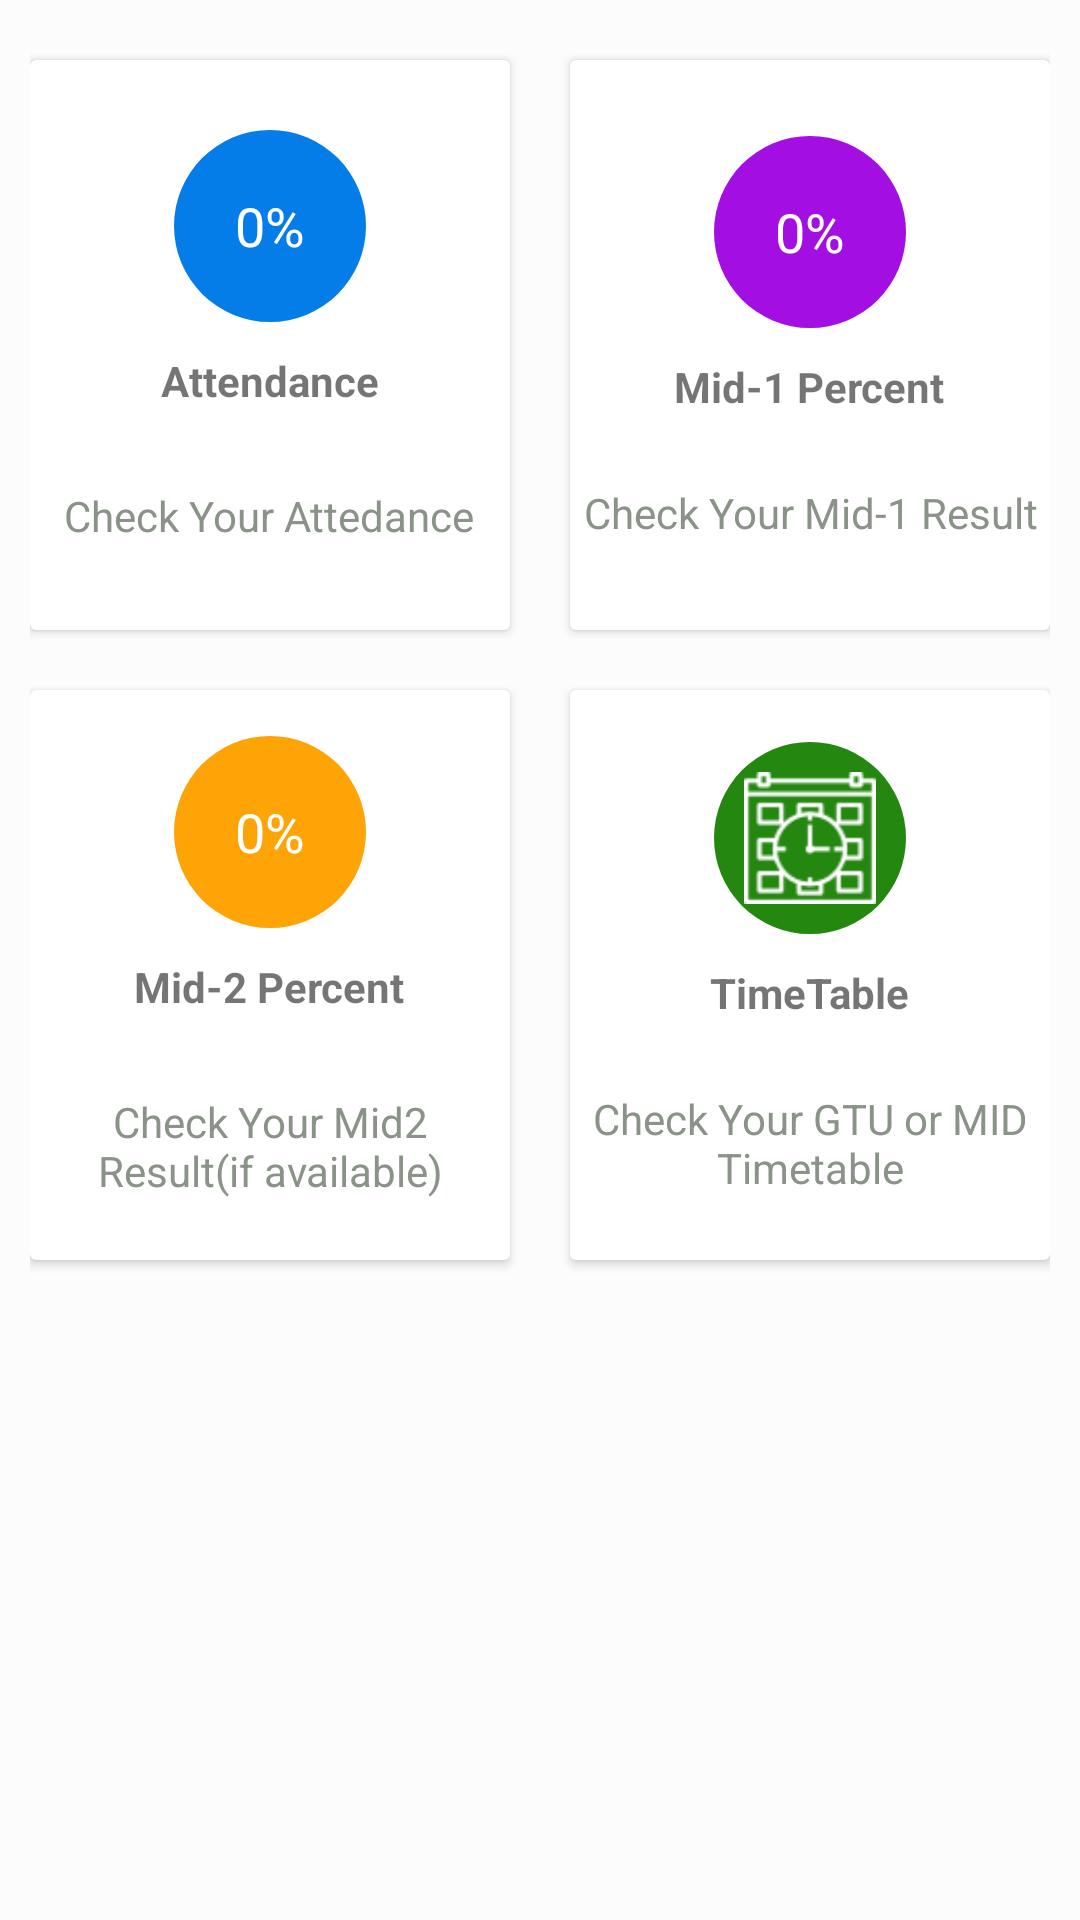

Where icons sit on this 1080×1920 app screen, as (x1, y1, x2, y2):
schedule: (714, 742, 906, 934)
